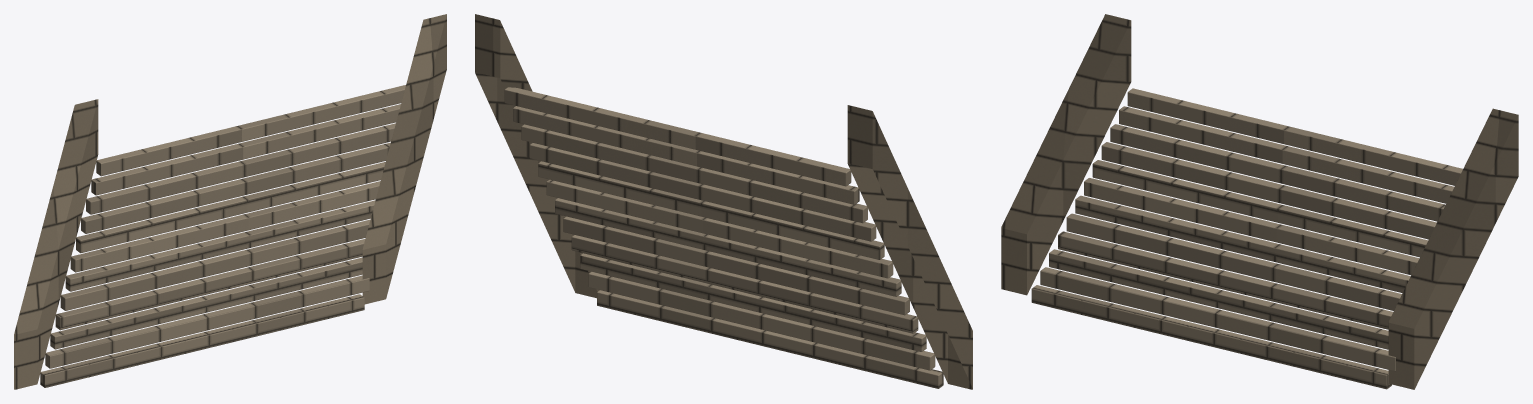
File: stairs.glb
3 views of the same model, side by side, from view 1: azimuth 30°, elevation 25°; view 2: azimuth 150°, elevation 25°; view 3: azimuth 330°, elevation 25° (orthographic). The views are drawn at different scales.
Visible parts, largest first — view 1: StairSteps, StairCheekLeft, StairCheekRight; view 2: StairSteps, StairCheekLeft, StairCheekRight; view 3: StairSteps, StairCheekLeft, StairCheekRight.
Boxes of the visible parts, left/top/right/bottom form: StairSteps: left=40, top=85, right=405, bottom=387; StairCheekLeft: left=14, top=99, right=98, bottom=389; StairCheekRight: left=362, top=14, right=446, bottom=304; StairSteps: left=504, top=87, right=943, bottom=388; StairCheekLeft: left=847, top=105, right=972, bottom=389; StairCheekRight: left=475, top=14, right=599, bottom=298; StairSteps: left=1031, top=88, right=1462, bottom=389; StairCheekLeft: left=1001, top=14, right=1131, bottom=295; StairCheekRight: left=1388, top=108, right=1518, bottom=389.
Bounding box in the file's own units: 9.41 × 5.17 × 0.7253.
Materials: 2 (2 with a texture image).
